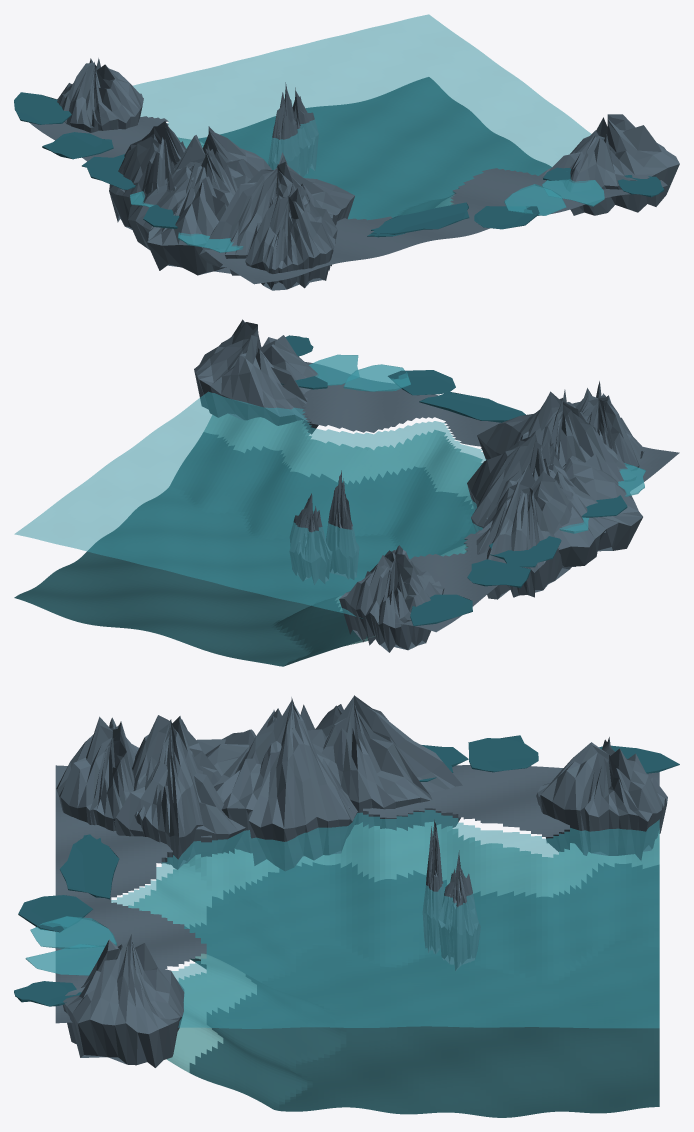
Rendered from water_tile_10.glb.
3 renders of one model, top to bottom at view 1: azimuth 30°, elevation 25°; view 2: azimuth 150°, elevation 25°; view 3: azimuth 270°, elevation 25°, orthographic. The views are drawn at different scales.
Parts seen in each view (by area): view 1: glacial water surface 10, submerged mineral riverbed.010, single continuous dark slate shoreline.010, angular fractured shoreline ledge.101, angular fractured shoreline ledge.106, angular fractured shoreline ledge.103, angular fractured shoreline ledge.100, angular fractured shoreline ledge.104, angular fractured shoreline ledge.107, angular fractured shoreline ledge.105, erosion water finger above land.125, underwater worn boulder.032 (+11 smaller); view 2: glacial water surface 10, submerged mineral riverbed.010, single continuous dark slate shoreline.010, visible shallow mineral shelves.010, angular fractured shoreline ledge.101, angular fractured shoreline ledge.107, angular fractured shoreline ledge.104, angular fractured shoreline ledge.106, angular fractured shoreline ledge.100, angular fractured shoreline ledge.105, underwater worn boulder.033, angular fractured shoreline ledge.103 (+10 smaller); view 3: submerged mineral riverbed.010, glacial water surface 10, visible shallow mineral shelves.010, single continuous dark slate shoreline.010, angular fractured shoreline ledge.105, angular fractured shoreline ledge.101, angular fractured shoreline ledge.107, angular fractured shoreline ledge.104, angular fractured shoreline ledge.100, angular fractured shoreline ledge.103, angular fractured shoreline ledge.106, angular fractured shoreline ledge.102 (+9 smaller).
Boxes of the visible parts, x1,y1,x2,y2 form: glacial water surface 10: (133,14,591,219); submerged mineral riverbed.010: (198,77,551,219); single continuous dark slate shoreline.010: (29,116,667,284); angular fractured shoreline ledge.101: (538,114,679,215); angular fractured shoreline ledge.106: (128,148,250,275); angular fractured shoreline ledge.103: (245,183,335,290); angular fractured shoreline ledge.100: (199,152,354,275); angular fractured shoreline ledge.104: (57,58,143,132); angular fractured shoreline ledge.107: (109,121,186,229); angular fractured shoreline ledge.105: (166,126,271,215); erosion water finger above land.125: (371,202,469,234); underwater worn boulder.032: (268,82,300,173); glacial water surface 10: (14,391,486,618); submerged mineral riverbed.010: (14,432,475,666); single continuous dark slate shoreline.010: (302,362,679,632); visible shallow mineral shelves.010: (204,413,482,644); angular fractured shoreline ledge.101: (194,319,324,434); angular fractured shoreline ledge.107: (476,462,573,599); angular fractured shoreline ledge.104: (339,545,444,652); angular fractured shoreline ledge.106: (486,443,642,566); angular fractured shoreline ledge.100: (477,389,636,492); angular fractured shoreline ledge.105: (467,431,605,566); underwater worn boulder.033: (289,493,332,584); angular fractured shoreline ledge.103: (572,381,644,470); submerged mineral riverbed.010: (184,862,659,1117); glacial water surface 10: (111,810,659,1028); visible shallow mineral shelves.010: (128,821,659,1072); single continuous dark slate shoreline.010: (55,765,659,1023); angular fractured shoreline ledge.105: (235,697,357,871); angular fractured shoreline ledge.101: (63,934,184,1067); angular fractured shoreline ledge.107: (315,695,462,830); angular fractured shoreline ledge.104: (536,737,667,860); angular fractured shoreline ledge.100: (132,715,221,869); angular fractured shoreline ledge.103: (56,716,138,831); angular fractured shoreline ledge.106: (196,710,349,853); angular fractured shoreline ledge.102: (114,759,245,864).
Size of the model in its own units: 1.15 by 0.3585 by 1.1.
